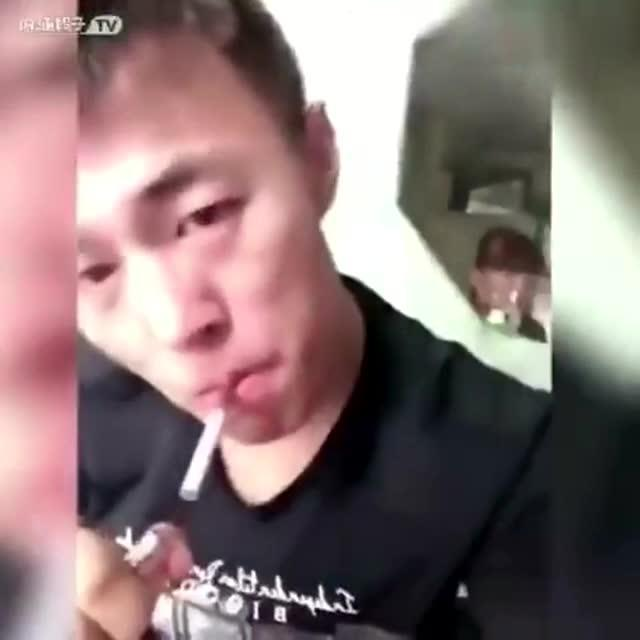rokok: (174, 384, 236, 508)
